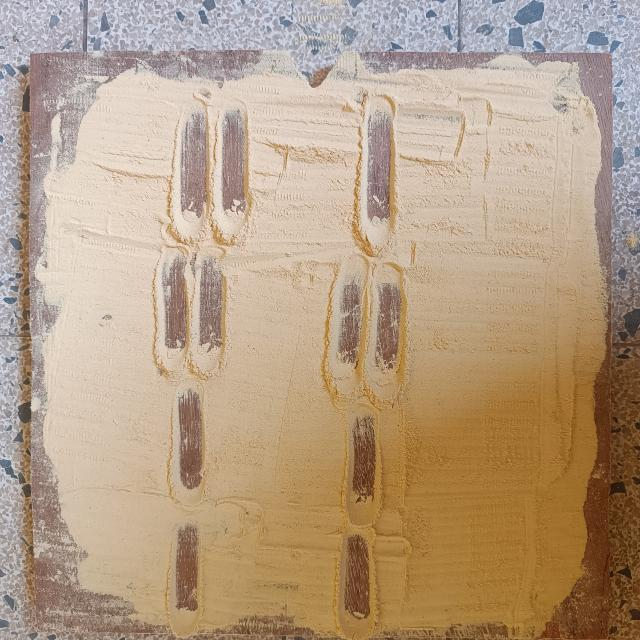double: (318, 258, 415, 412), (164, 95, 258, 250), (152, 245, 234, 380)
single: (353, 88, 403, 259), (339, 403, 386, 532), (162, 513, 208, 637), (334, 527, 382, 640), (166, 382, 209, 504)
